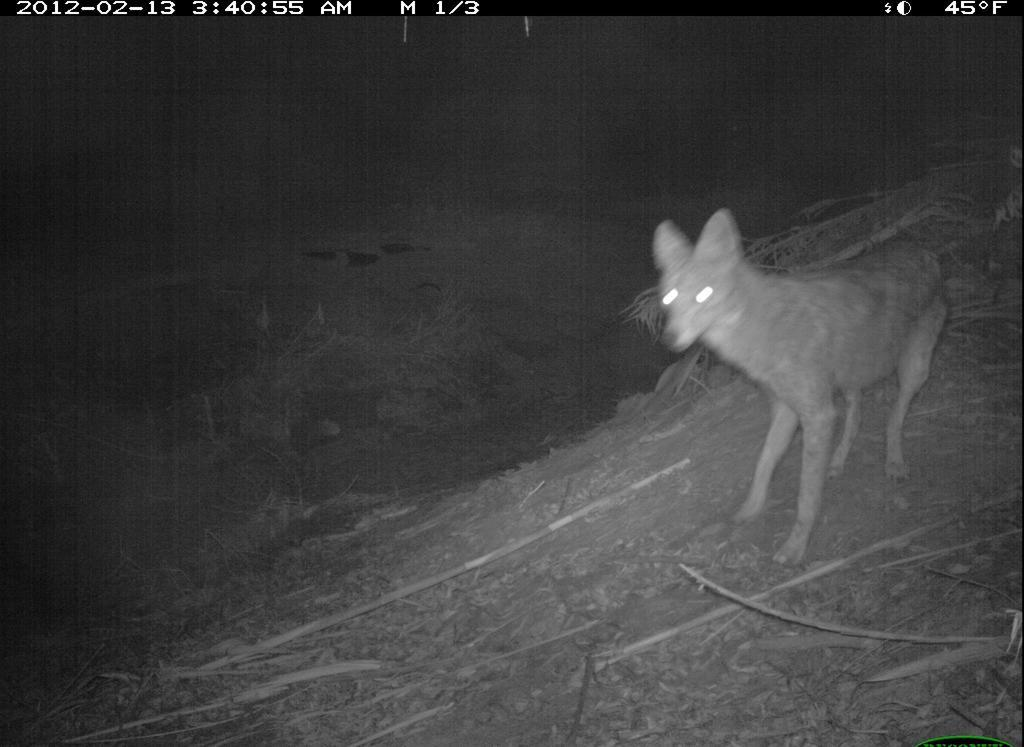coyote: (610, 207, 962, 574)
